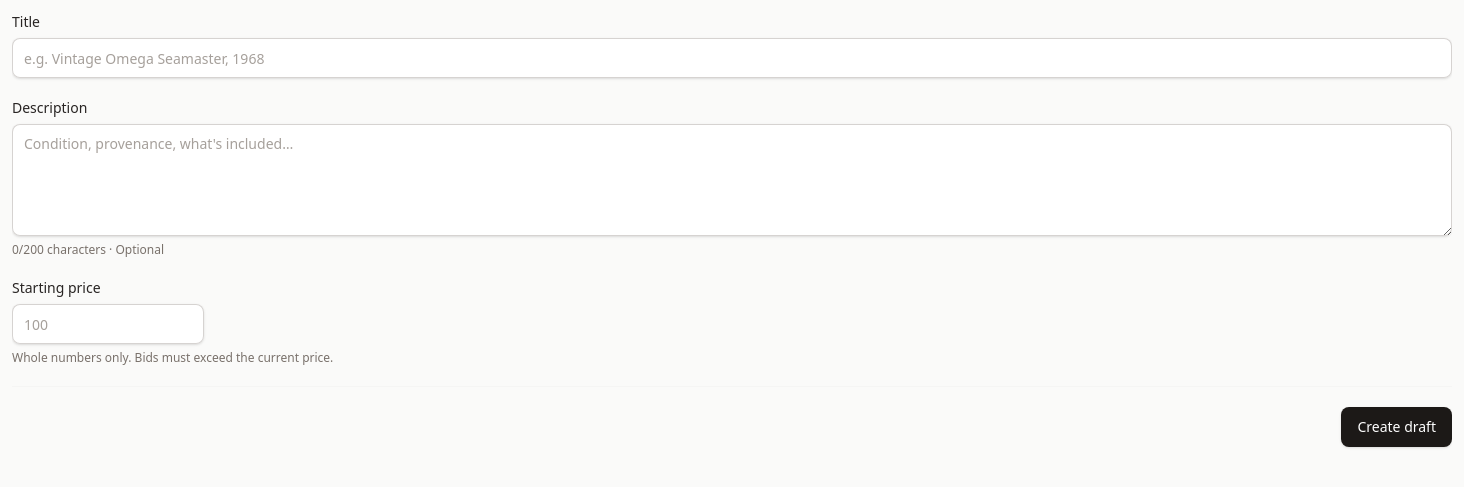
Test: ProductForm › blocks submission with invalid values
Click the button "Create draft".
click(1397, 427)  # box [1342,407,1452,447]
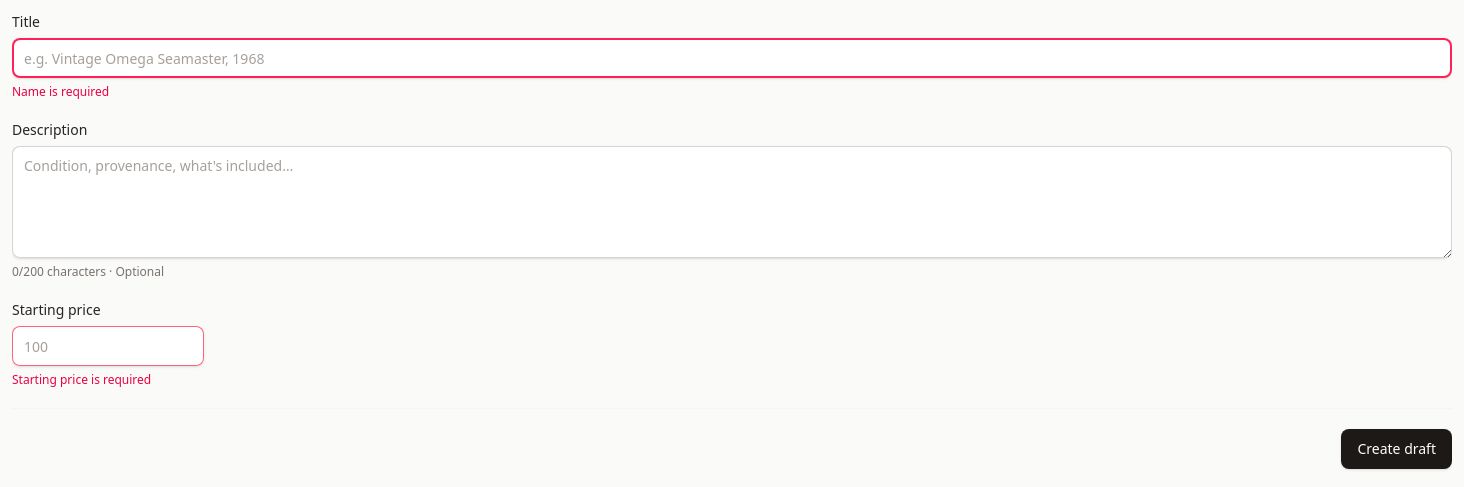
Check: the text "Name is required" is shown, box [12,83,109,100]
Check: the text "Starting price is required" is shown, box [12,371,151,388]
